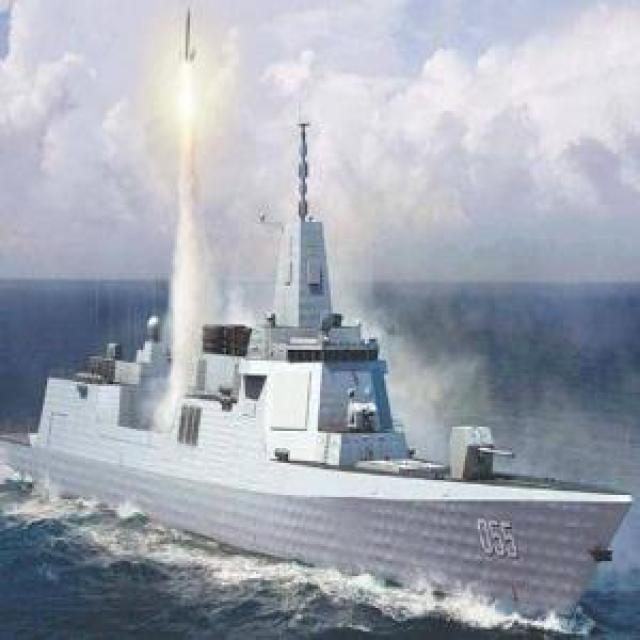navalvessels: (9, 103, 632, 614)
